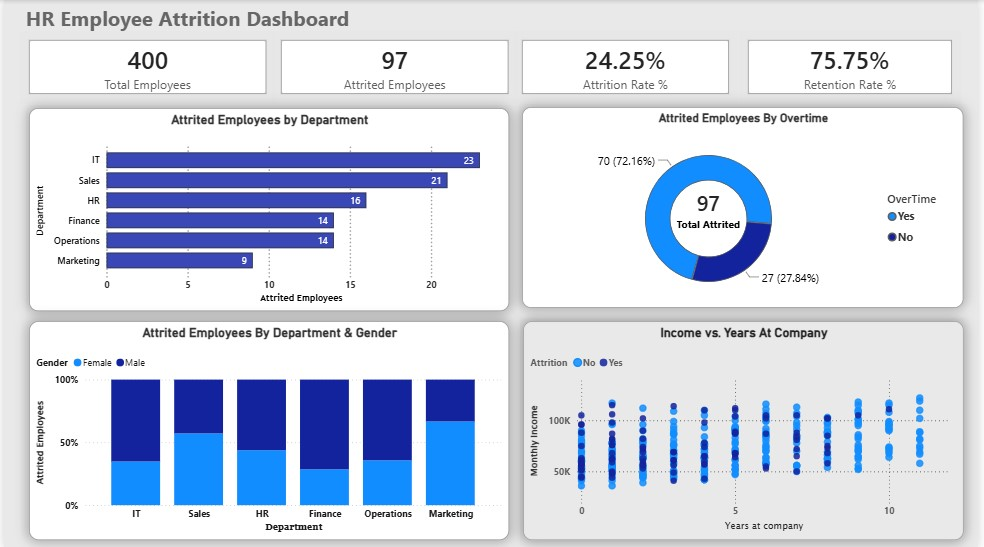

The page's visual inventory and layout, read from the dashboard file:
{"tool":"powerbi","page":{"name":"Page 1","canvas":[1280,720],"ordinal":0},"visuals":[{"type":"cardVisual","fields":{"Data":["Employees.Total Employees"]},"box":[15.2,36,346.3,105.3],"z":0},{"type":"cardVisual","fields":{"Data":["Employees.Attrited Employees"]},"box":[346.7,36,333.3,105.3],"z":1000},{"type":"cardVisual","fields":{"Data":["Employees.Attrition Rate %"]},"box":[664,36,306.7,105.3],"z":2000},{"type":"cardVisual","fields":{"Data":["Employees.Retention Rate %"]},"box":[960,36,302.7,105.3],"z":3000},{"type":"clusteredBarChart","fields":{"Category":["Employees.Department"],"Y":["Employees.Attrited Employees"]},"box":[33.3,141.3,630.7,266.7],"z":4000},{"type":"hundredPercentStackedColumnChart","title":"Attrited Employees By Department & Gender","fields":{"Category":["Employees.Department"],"Y":["Employees.Attrited Employees"],"Series":["Employees.Gender"]},"box":[33.3,421.3,630.7,288],"z":5000},{"type":"scatterChart","title":"Income vs. Years At Company","fields":{"X":["Sum(Employees.YearsAtCompany)"],"Y":["Sum(Employees.MonthlyIncome)"],"Series":["Employees.Attrition"],"Category":["Employees.EmployeeID"]},"box":[681.3,421.3,578.7,288],"z":6000},{"type":"donutChart","title":"Attrited Employees By Overtime","fields":{"Category":["Employees.OverTime"],"Y":["Employees.Attrited Employees"]},"box":[680.6,140.6,580,264],"z":7000},{"type":"cardVisual","fields":{"Data":["Employees.Attrited Employees"]},"box":[840.9,208.9,169.3,130.7],"z":8000},{"type":"textbox","box":[23.5,0,531.9,55.4],"z":9000}]}

Visuals, with their boxes in screenshot pixels (x1, y1, x2, y2), scaled from the page's 1280x720 canvas onto the 984x547 screenshot:
cardVisual - Employees.Total Employees: Rect(12, 27, 278, 107)
cardVisual - Employees.Attrited Employees: Rect(267, 27, 523, 107)
cardVisual - Employees.Attrition Rate %: Rect(510, 27, 746, 107)
cardVisual - Employees.Retention Rate %: Rect(738, 27, 971, 107)
clusteredBarChart - Employees.Department x Employees.Attrited Employees: Rect(26, 107, 510, 310)
"Attrited Employees By Department & Gender" hundredPercentStackedColumnChart: Rect(26, 320, 510, 539)
"Income vs. Years At Company" scatterChart: Rect(524, 320, 969, 539)
"Attrited Employees By Overtime" donutChart: Rect(523, 107, 969, 307)
cardVisual - Employees.Attrited Employees: Rect(646, 159, 777, 258)
textbox: Rect(18, 0, 427, 42)
